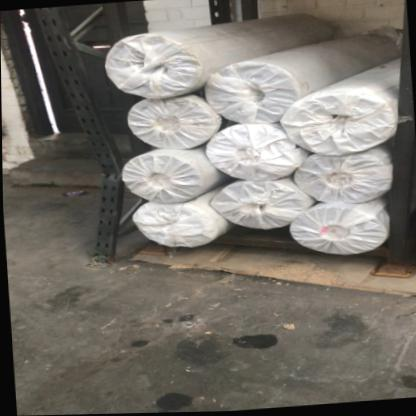vertical_damage: (64, 102, 139, 230)
